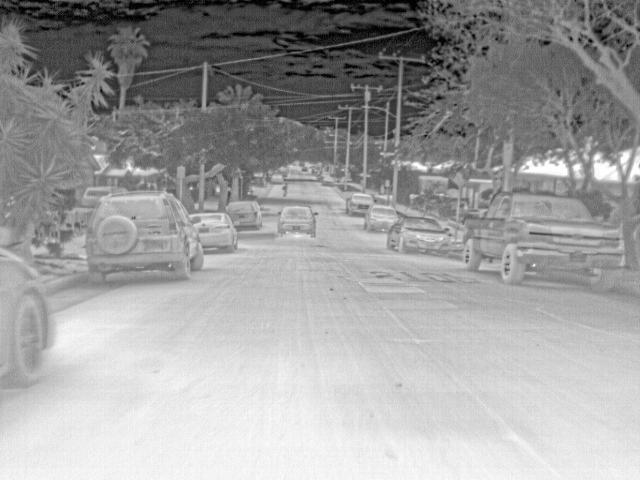car: (462, 192, 626, 294), (87, 188, 204, 284), (1, 243, 56, 392), (387, 215, 449, 254), (187, 211, 238, 255), (277, 203, 318, 239), (224, 198, 262, 230), (363, 204, 398, 234), (344, 193, 375, 218), (81, 185, 101, 206), (321, 176, 337, 188), (270, 172, 285, 184), (278, 166, 291, 178), (318, 172, 330, 180), (300, 165, 309, 173), (311, 168, 321, 175)
person: (280, 184, 290, 198)
